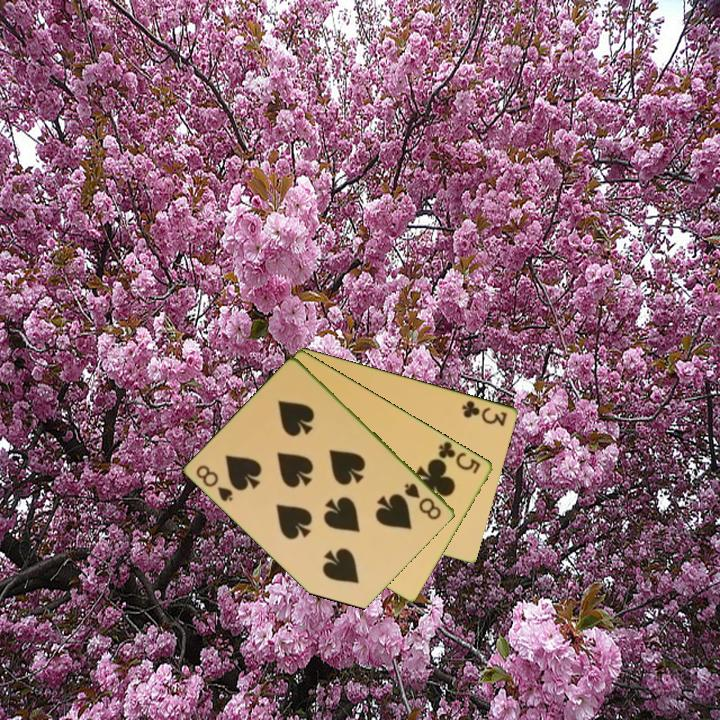3c: (459, 396, 510, 429)
5c: (435, 438, 484, 477)
8s: (401, 479, 444, 523), (193, 461, 236, 504)
